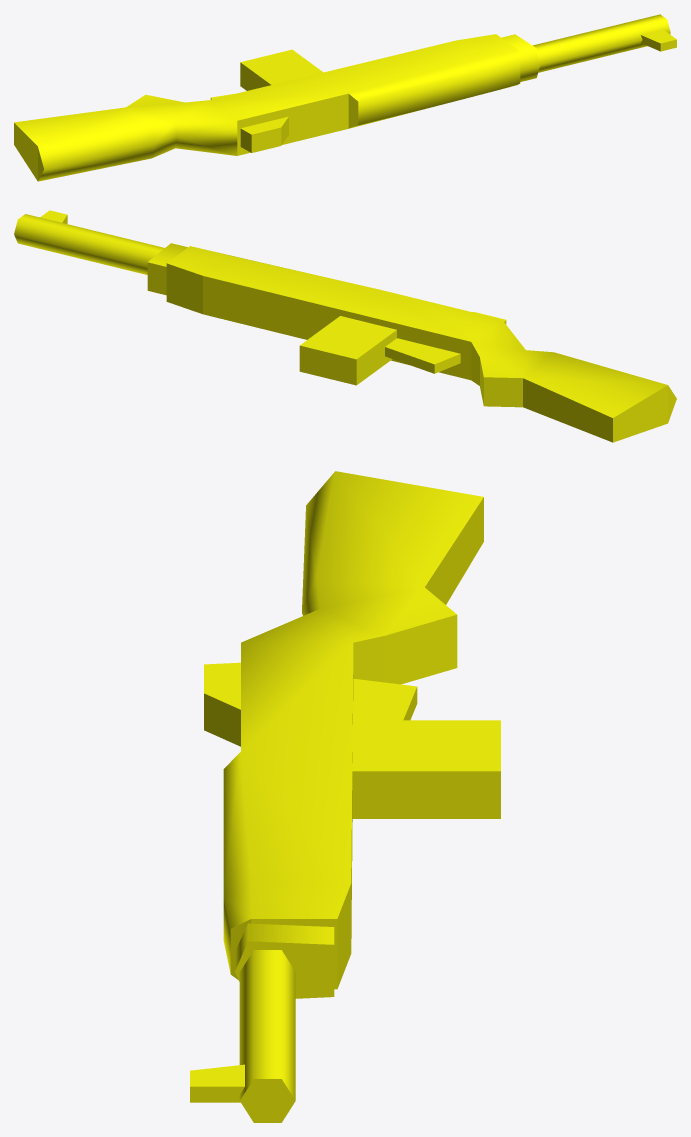
The model's file is weapon_M1carbine.glb.
3 renders of one model, top to bottom at view 1: azimuth 30°, elevation 25°; view 2: azimuth 150°, elevation 25°; view 3: azimuth 270°, elevation 25°, orthographic. The views are drawn at different scales.
Visible parts, largest first — view 1: weapon_M1carbine; view 2: weapon_M1carbine; view 3: weapon_M1carbine.
Part boxes in pixels (x1,y1,x2,y2): weapon_M1carbine: (14,14,676,181); weapon_M1carbine: (14,210,676,442); weapon_M1carbine: (190,471,500,1122).
Bounding box in the file's own units: 1.55 × 0.0858 × 0.3433.
Materials: 1 (1 with a texture image).
